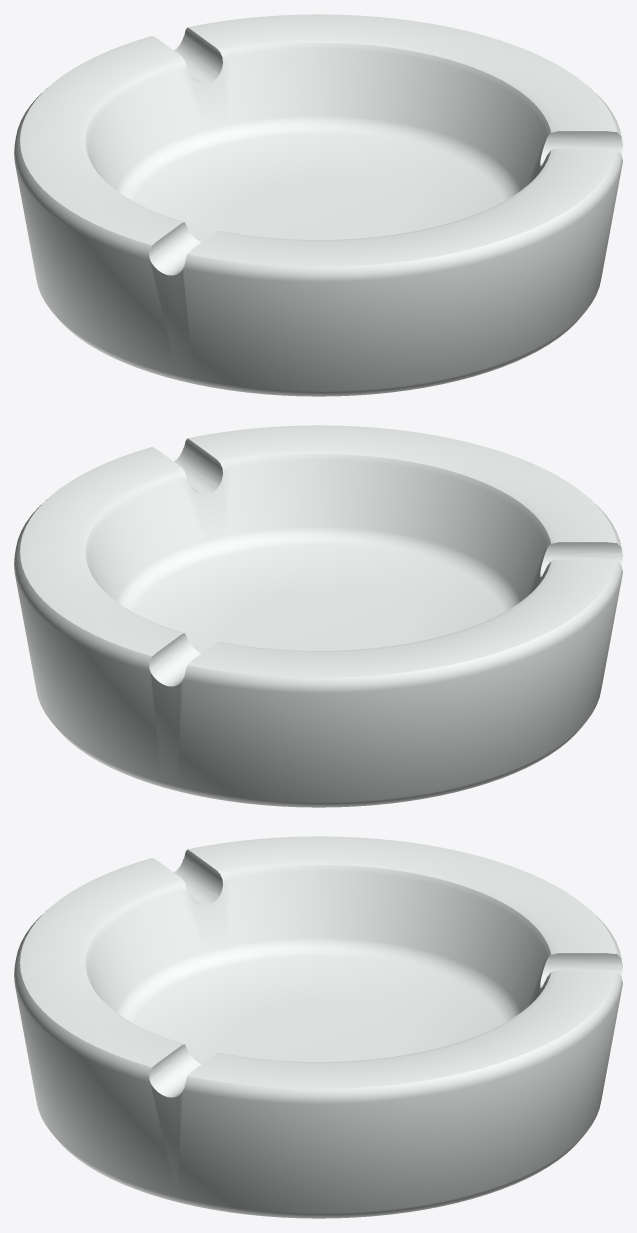
The model's file is ashtray.glb.
3 views of the same model, one above another, from view 1: azimuth 30°, elevation 25°; view 2: azimuth 150°, elevation 25°; view 3: azimuth 270°, elevation 25° (orthographic).
Parts seen in each view (by area): view 1: Glass ashtray; view 2: Glass ashtray; view 3: Glass ashtray.
Part boxes in pixels (<box>): Glass ashtray: <box>14,14,622,396</box>; Glass ashtray: <box>14,425,622,807</box>; Glass ashtray: <box>14,836,622,1218</box>.
Size of the model in its own units: 0.14 by 0.036 by 0.1399.
1 material, 1 textured.
